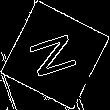N_E: (25, 28, 85, 82)
